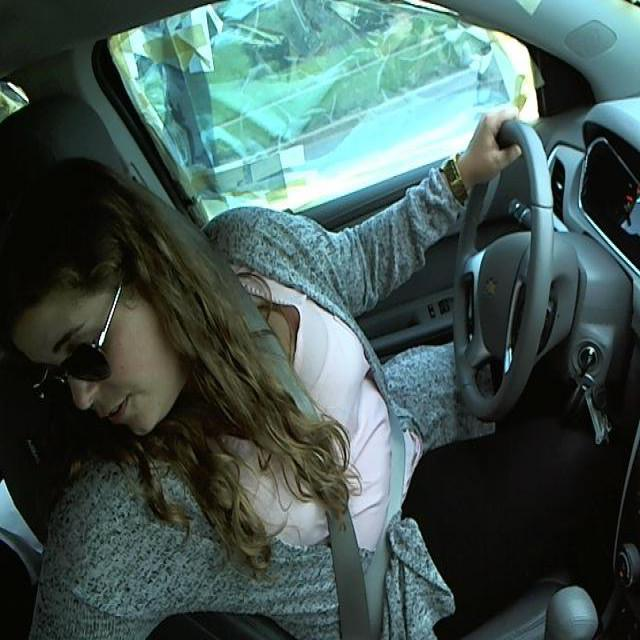seatbelt: (253, 348, 391, 627)
